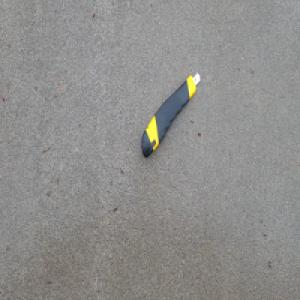Cutter: (141, 72, 201, 160)
